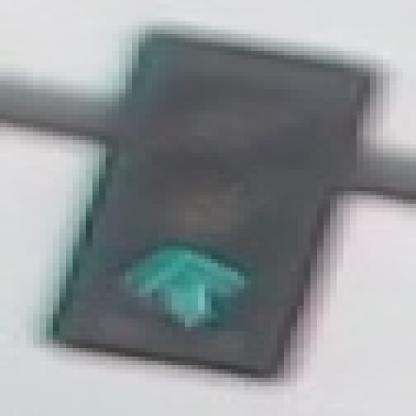Green Light: (65, 29, 365, 379)
